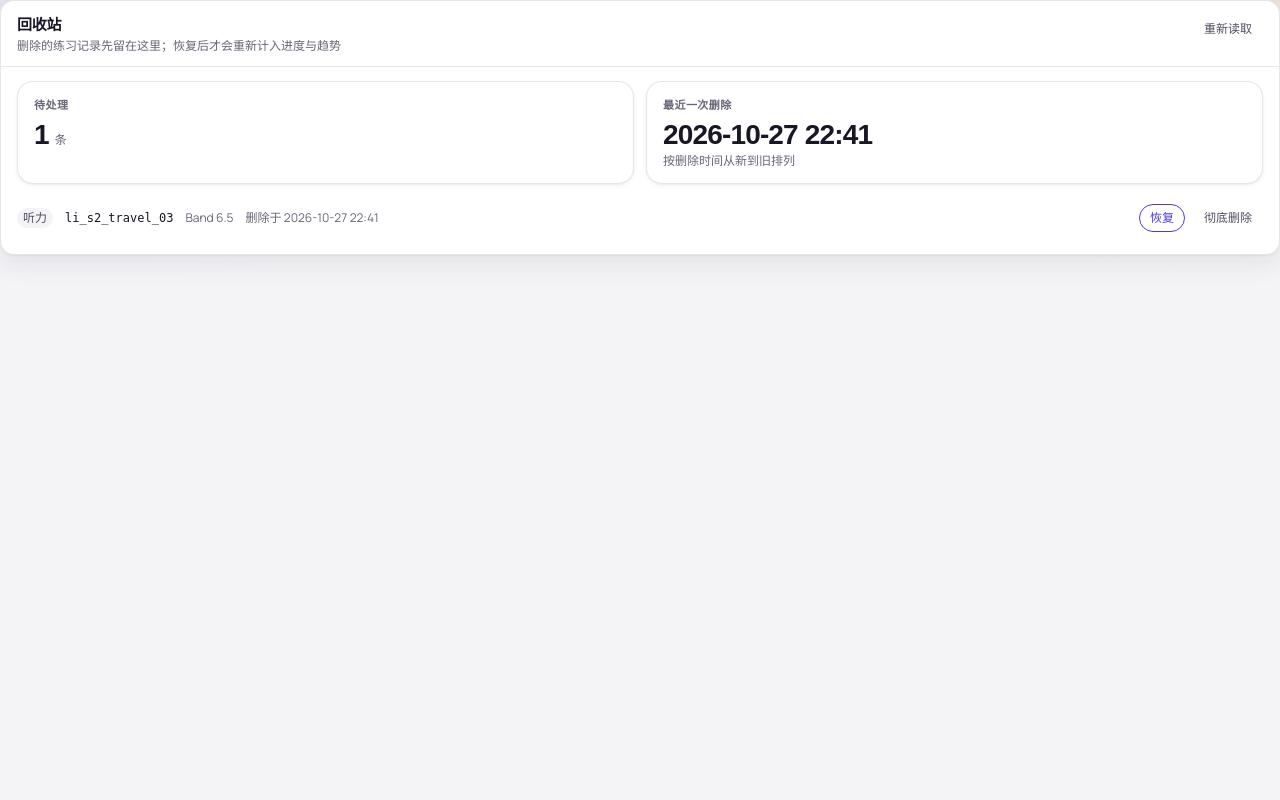
Test case: 回收站（§14.8） › 没有快照时后端给 409，那句「先备份」原样到达用户且行还在
Expected: the list named "回收站里的练习记录" is shown, [17,196,1263,240]
Click the button "彻底删除" at (1228, 218), box [1193,204,1263,232]
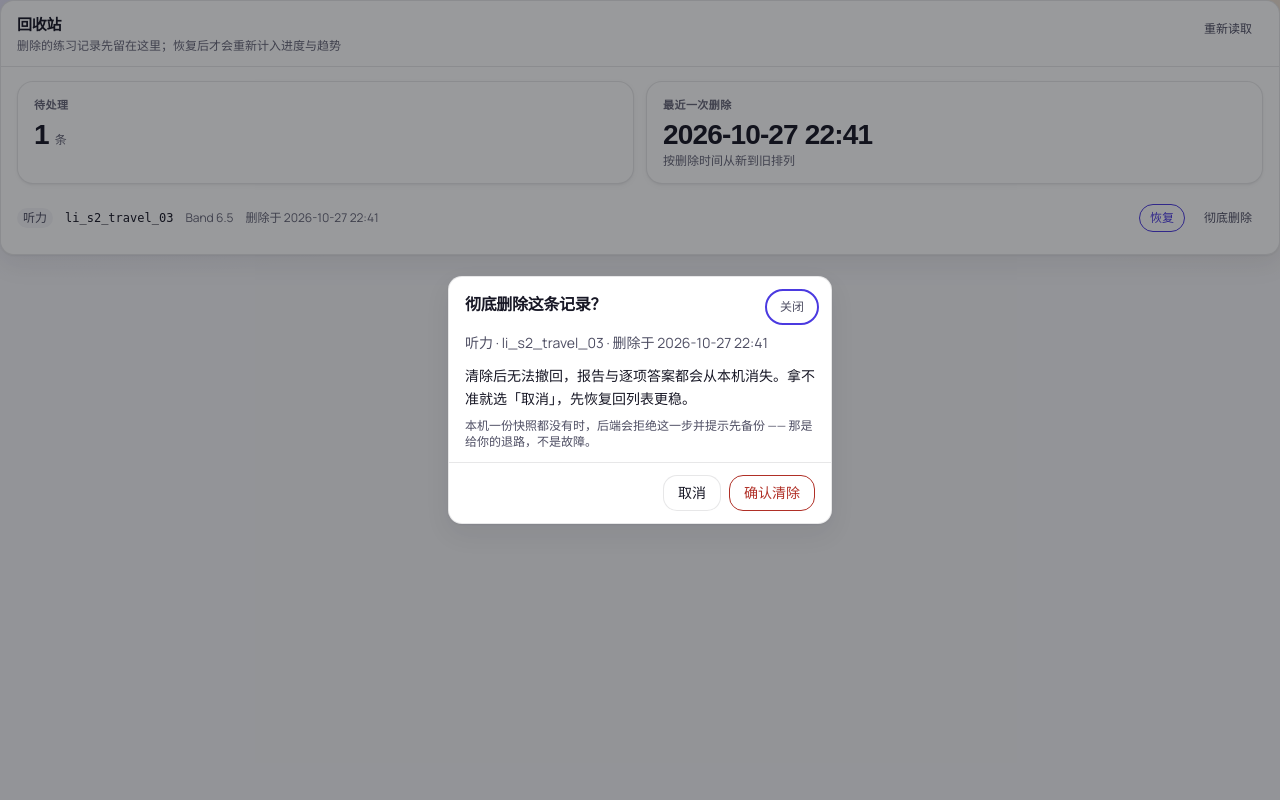
Click the button "确认清除" at (772, 493), box [729,475,815,511]
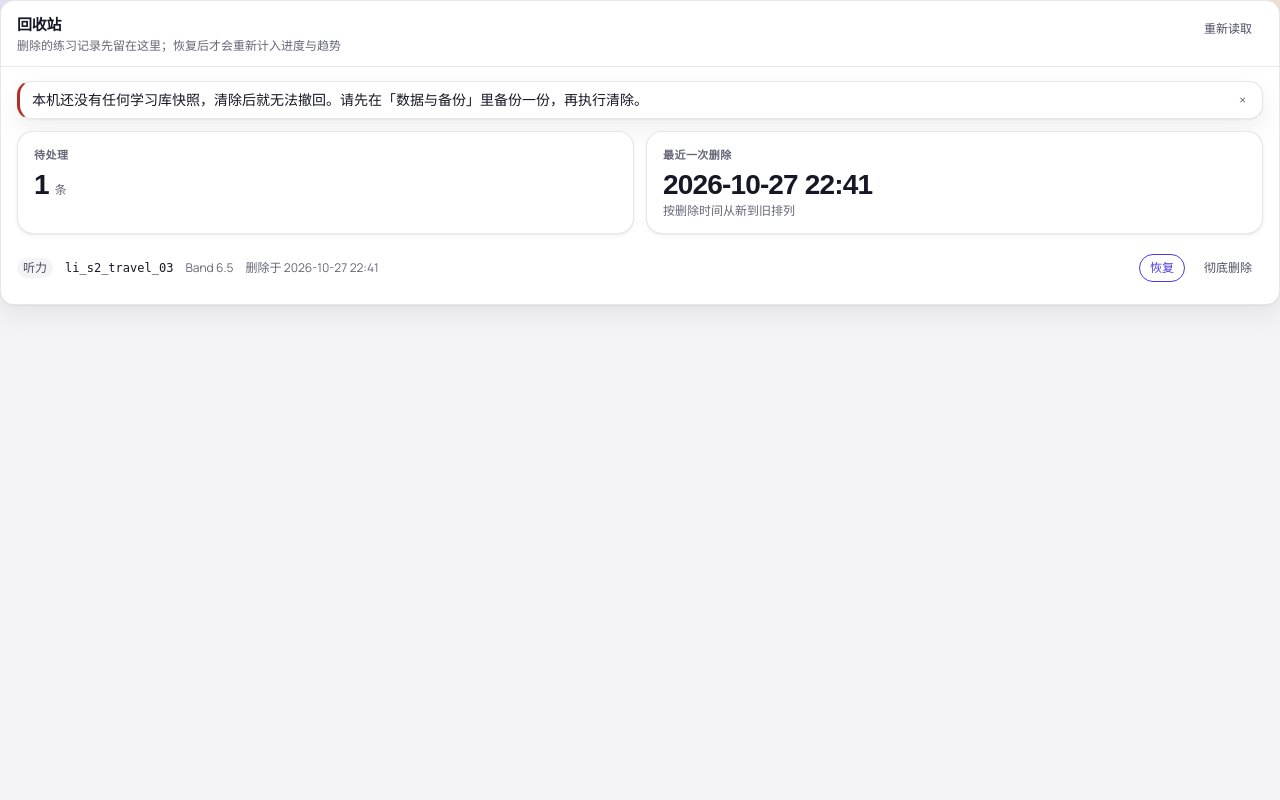
Expected: the number of list items is 1, [17,246,1263,290]
Now the message shows "请先在「数据与备份」里备份一份", box [32,90,648,109]
